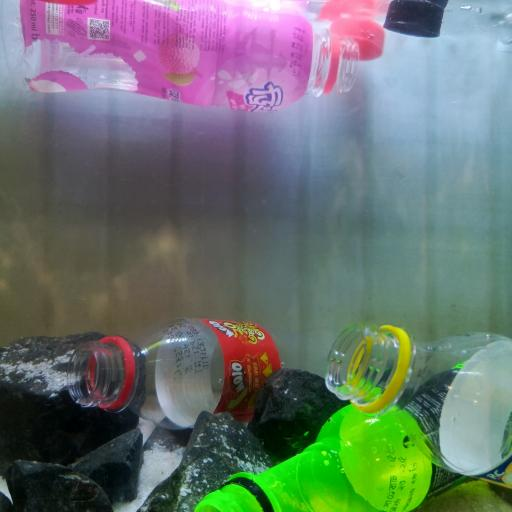bottle_cap: (331, 20, 385, 62), (387, 2, 444, 39)
plastic_bottle: (201, 360, 475, 512), (5, 1, 357, 114), (327, 317, 512, 491), (65, 319, 327, 428)
